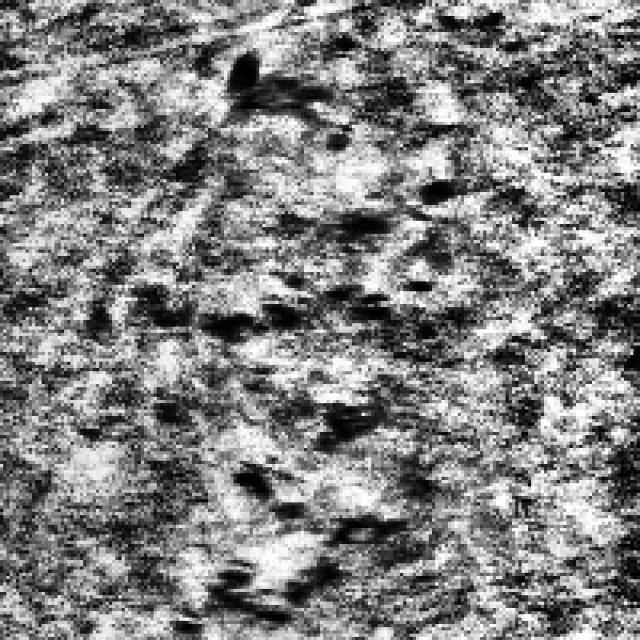Crazing: (192, 204, 394, 634), (211, 38, 362, 160)
